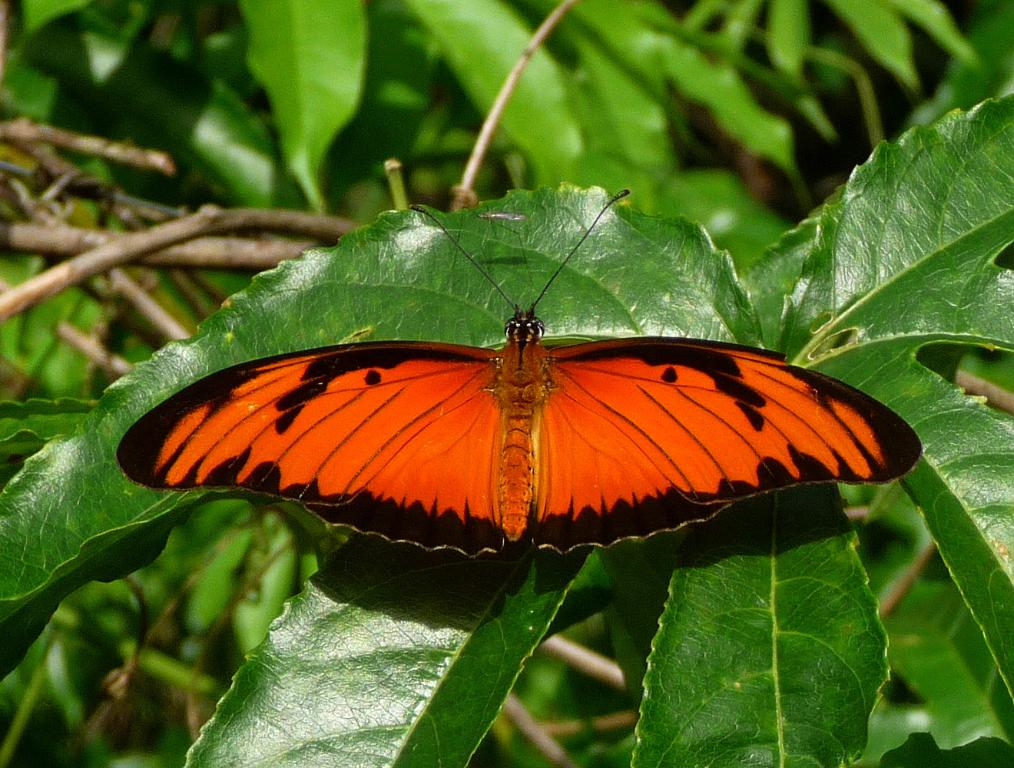Butterfly: (92, 296, 932, 581)
